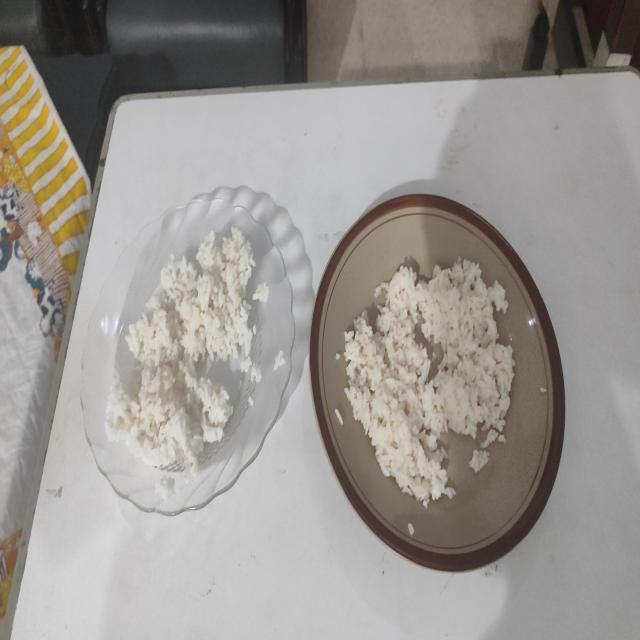nasi_putih: (343, 258, 515, 507), (107, 229, 260, 470)
